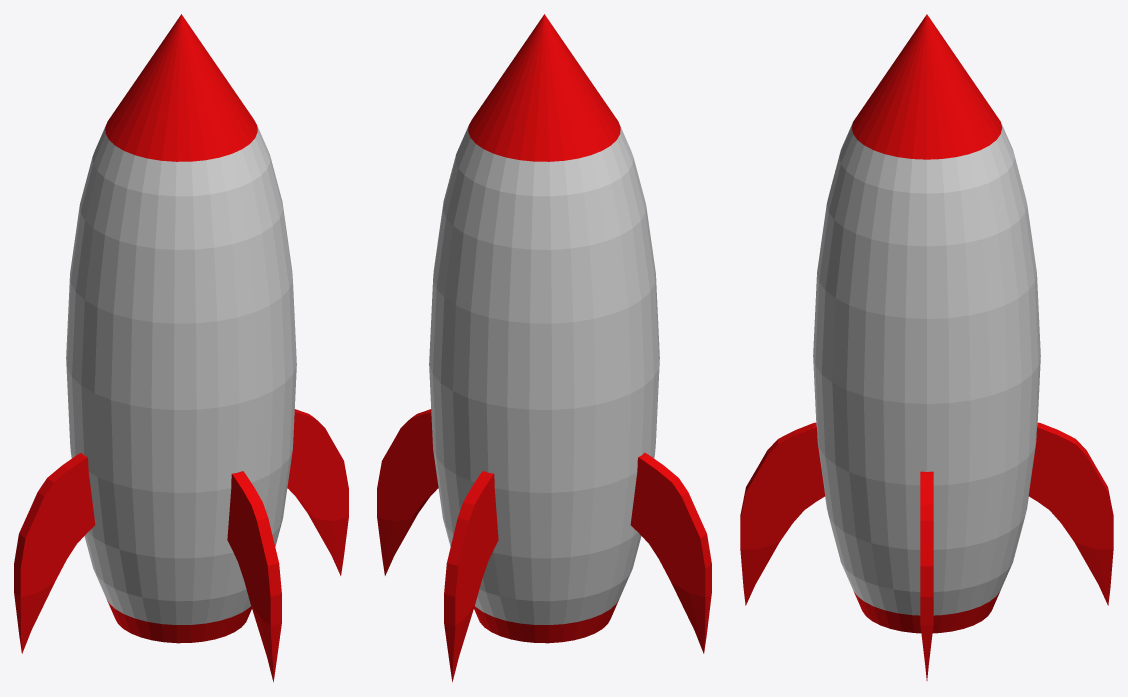
Rendered from Missile.fbx.
3 renders of one model, left to right at view 1: azimuth 30°, elevation 25°; view 2: azimuth 150°, elevation 25°; view 3: azimuth 270°, elevation 25°, orthographic.
Parts seen in each view (by area): view 1: Cylinder; view 2: Cylinder; view 3: Cylinder.
Boxes of the visible parts, x1,y1,x2,y2 form: Cylinder: [14, 14, 348, 682]; Cylinder: [377, 14, 711, 682]; Cylinder: [740, 14, 1113, 680].
Bounding box in the file's own units: 596 × 1043 × 596.
